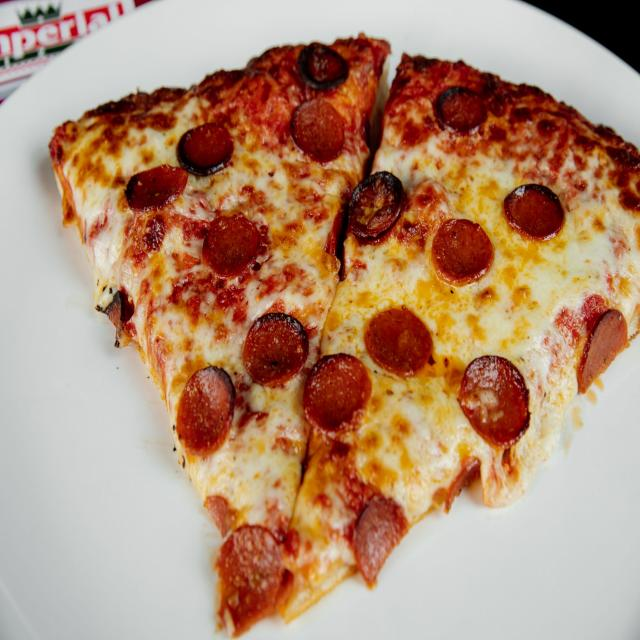pizza: (49, 41, 640, 640)
